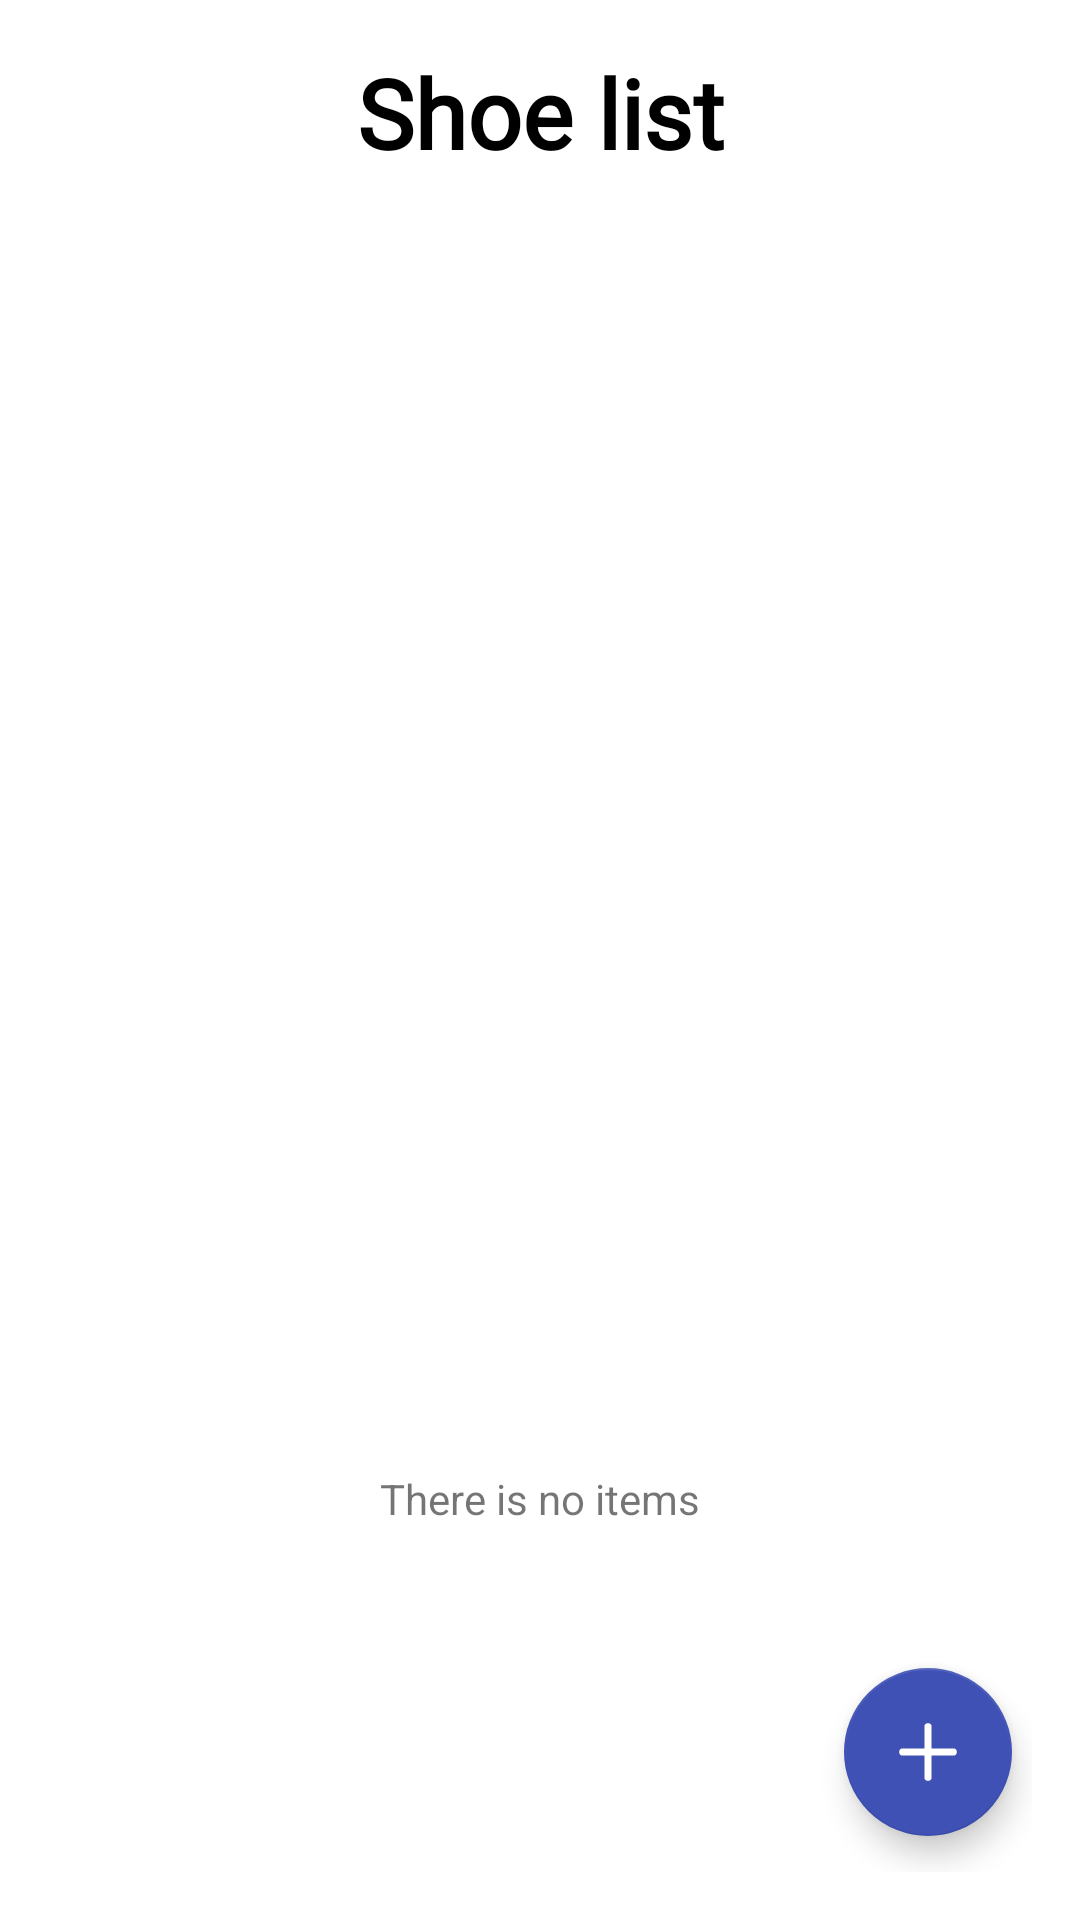

Point at icon controls on the screen. Image size 1080×1920, points as [x,y].
Add shoe: [928,1752]
